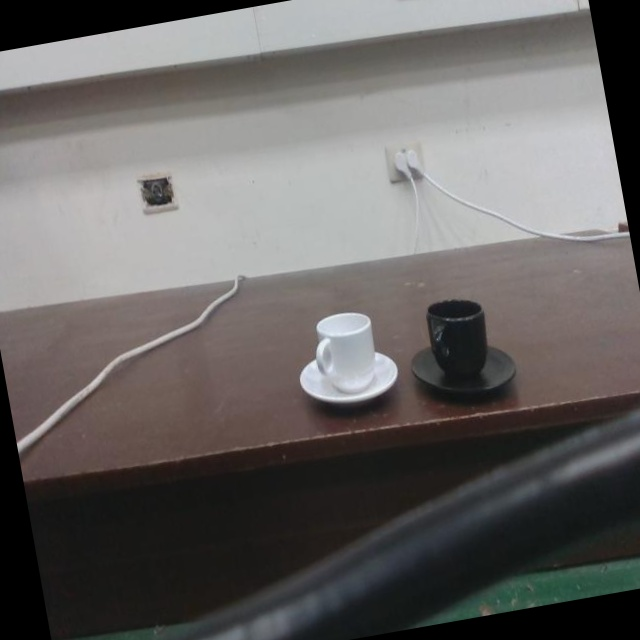black: (407, 295, 515, 402)
white: (296, 310, 397, 414)
